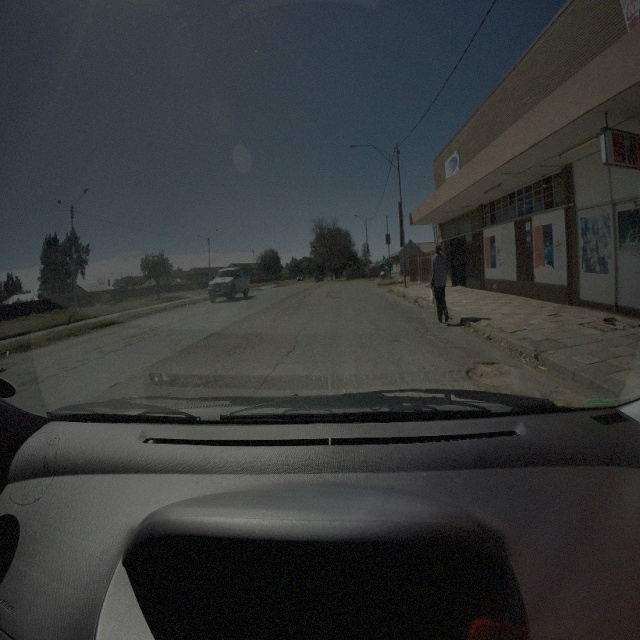pothole: (464, 354, 517, 390)
